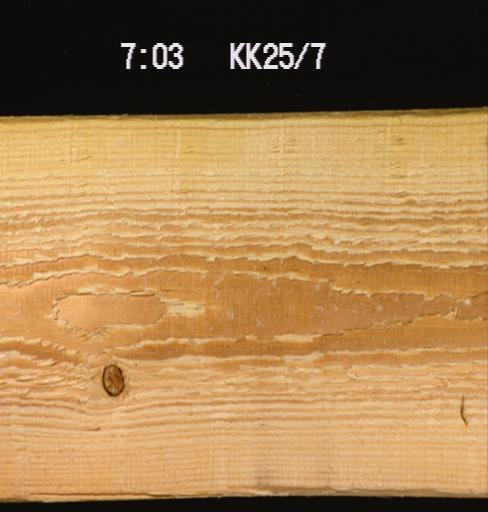wave: (2, 104, 312, 131), (243, 475, 483, 502)
